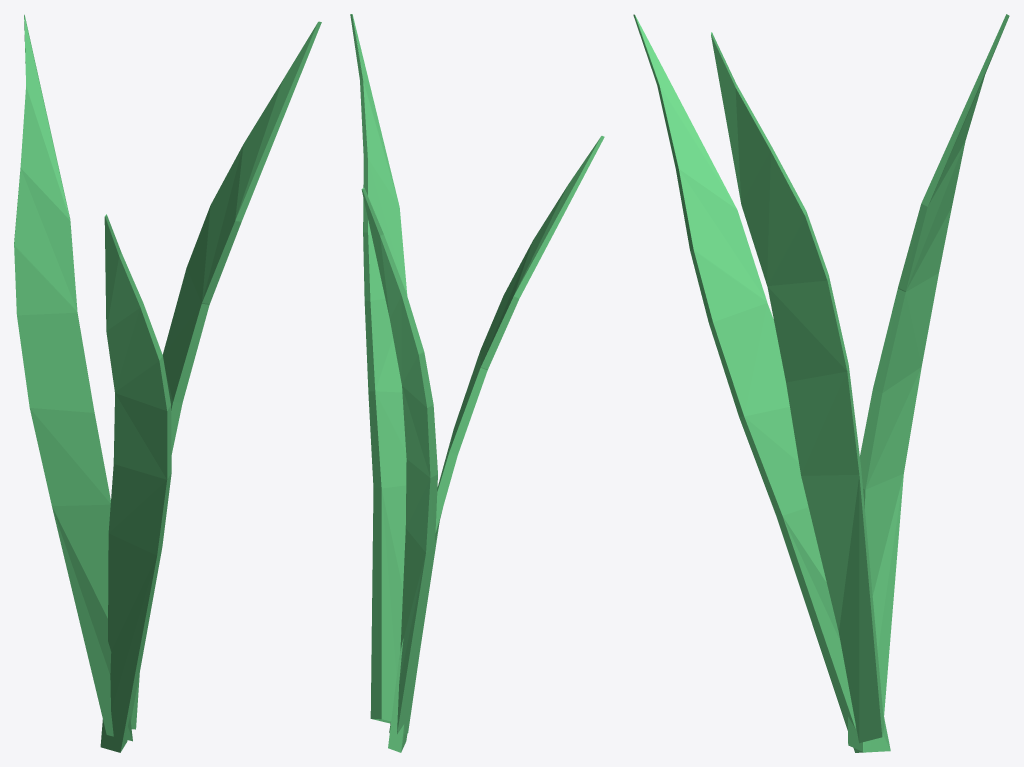
The model's file is GrowingGrass.fbx.
The picture shows the model from 3 angles, left to right: view 1: azimuth 30°, elevation 25°; view 2: azimuth 150°, elevation 25°; view 3: azimuth 270°, elevation 25°; orthographic projection. The views are drawn at different scales.
Parts seen in each view (by area): view 1: polySurface4, pasted__polySurface3, polySurface3; view 2: polySurface3, polySurface4, pasted__polySurface3; view 3: polySurface3, pasted__polySurface3, polySurface4.
Boxes of the visible parts, box(x1,y1,x2,y2) form: polySurface4: box(14, 14, 132, 741); pasted__polySurface3: box(100, 214, 171, 752); polySurface3: box(131, 21, 321, 729); polySurface3: box(350, 14, 407, 723); polySurface4: box(361, 188, 437, 734); pasted__polySurface3: box(388, 136, 604, 752); polySurface3: box(711, 32, 884, 743); pasted__polySurface3: box(633, 14, 890, 752); polySurface4: box(848, 14, 1009, 751).
Size of the model in its own units: 15.49 by 43.8 by 18.91.
